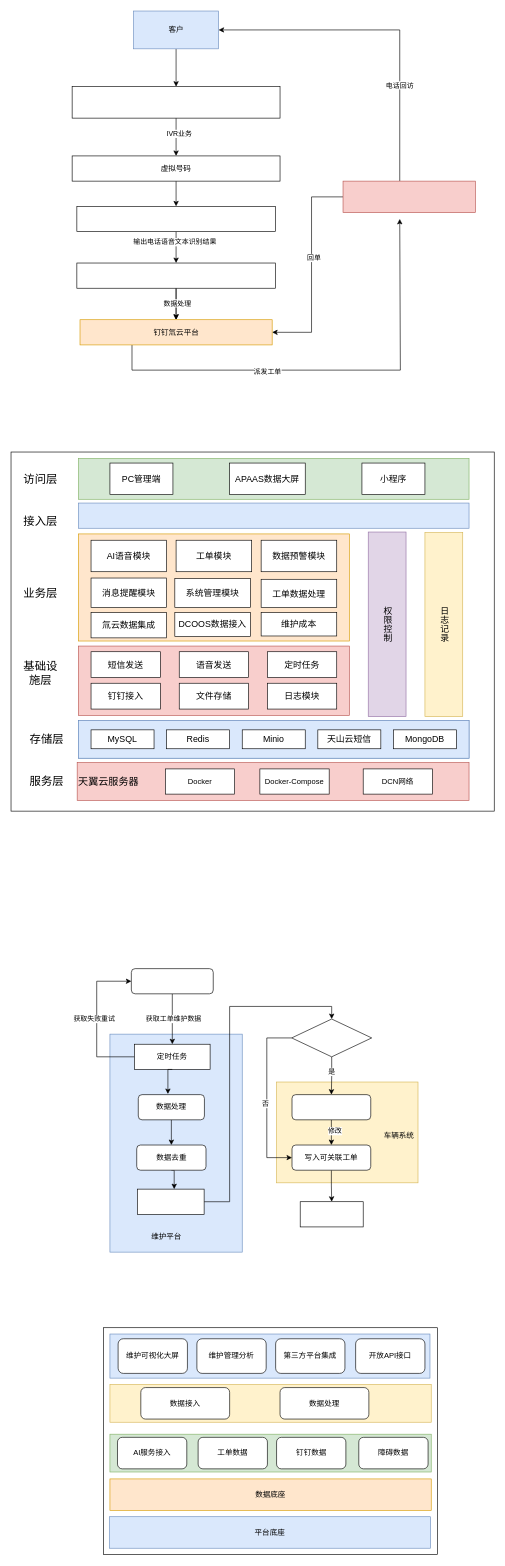
Image size: 505x1566. Some labels were removed from this diagram. The shapes that lost their labels are listed below. From the top down, each one's centre as x and y in pixels, then its label:
At pixel 176 102: "1183166值机电话".
At pixel 408 196: "维护人员".
At pixel 175 219: "AI语音服务平台".
At pixel 175 275: "AI工单自动化调度系统".
At pixel 273 515: "Nginx(接入网关、静态资源)".
At pixel 172 981: "光网平台（DCOOS）".
At pixel 331 1037: "是否结束".
At pixel 331 1107: "写入已关闭工单".
At pixel 170 1201: "数据入库".
At pixel 331 1214: "用车申请数据".
